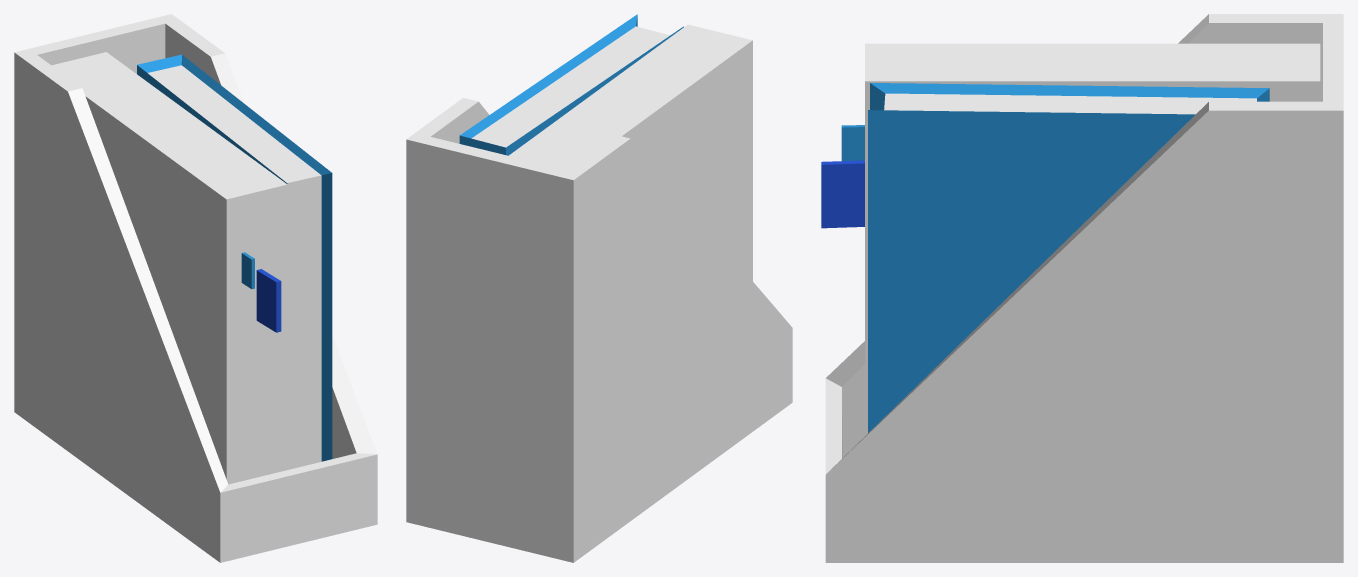
Rendered from folder for documents.002.fbx.
3 views of the same model, side by side, from view 1: azimuth 30°, elevation 25°; view 2: azimuth 150°, elevation 25°; view 3: azimuth 270°, elevation 25° (orthographic). The views are drawn at different scales.
Visible parts, largest first — view 1: folder for documents.002; view 2: folder for documents.002; view 3: folder for documents.002.
Part boxes in pixels (left/top/right/bottom): folder for documents.002: left=14, top=14, right=377, bottom=562; folder for documents.002: left=406, top=14, right=792, bottom=562; folder for documents.002: left=821, top=14, right=1343, bottom=562.
Bounding box in the file's own units: 0.2678 × 0.5853 × 0.6127.
Materials: 1 (1 with a texture image).
